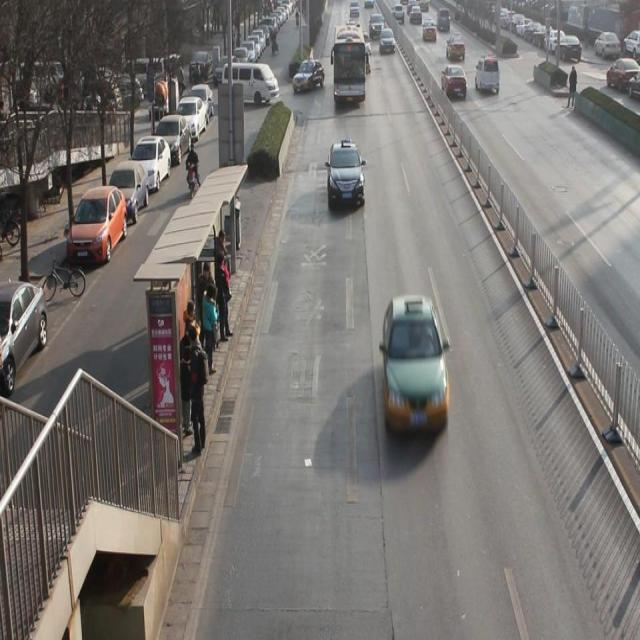car: (381, 300, 454, 438), (325, 140, 368, 214), (476, 54, 501, 100), (298, 58, 325, 95), (442, 65, 469, 100), (445, 34, 468, 63), (358, 46, 372, 76), (381, 30, 396, 56), (423, 22, 437, 42)
van: (332, 25, 364, 105)
